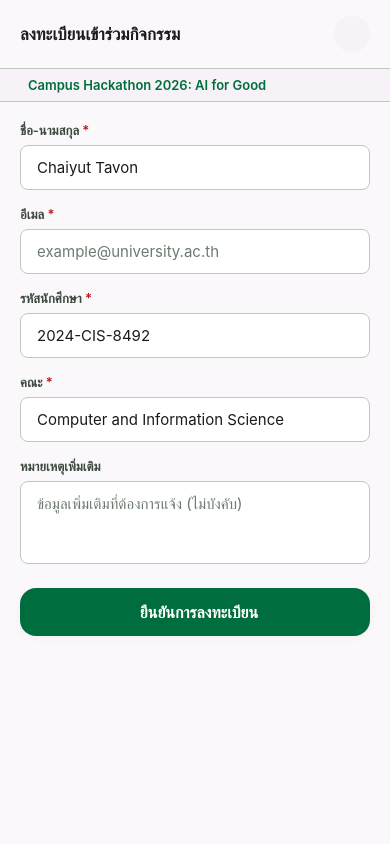
Test case: Integration Test: EventRegistrationModal › validates required email field on submit and preserves inputs
The image size is (390, 844).
Expected: the text "อีเมลไม่ถูกต้อง" is not shown
// Submit with empty email
Click the button with test id "submit-btn". click: (195, 612)
box: left=20, top=588, right=370, bottom=636
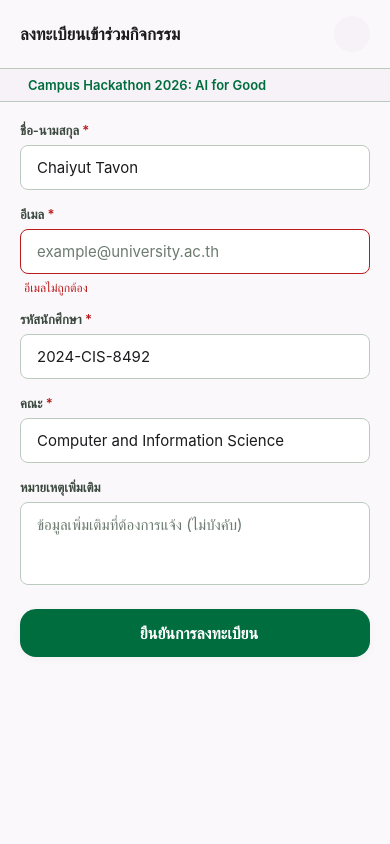
Expected: the field with test id "input-fullName" holds "Chaiyut Tavon", left=20, top=145, right=370, bottom=190
Result: the text "อีเมลไม่ถูกต้อง" is shown at left=24, top=280, right=88, bottom=295
